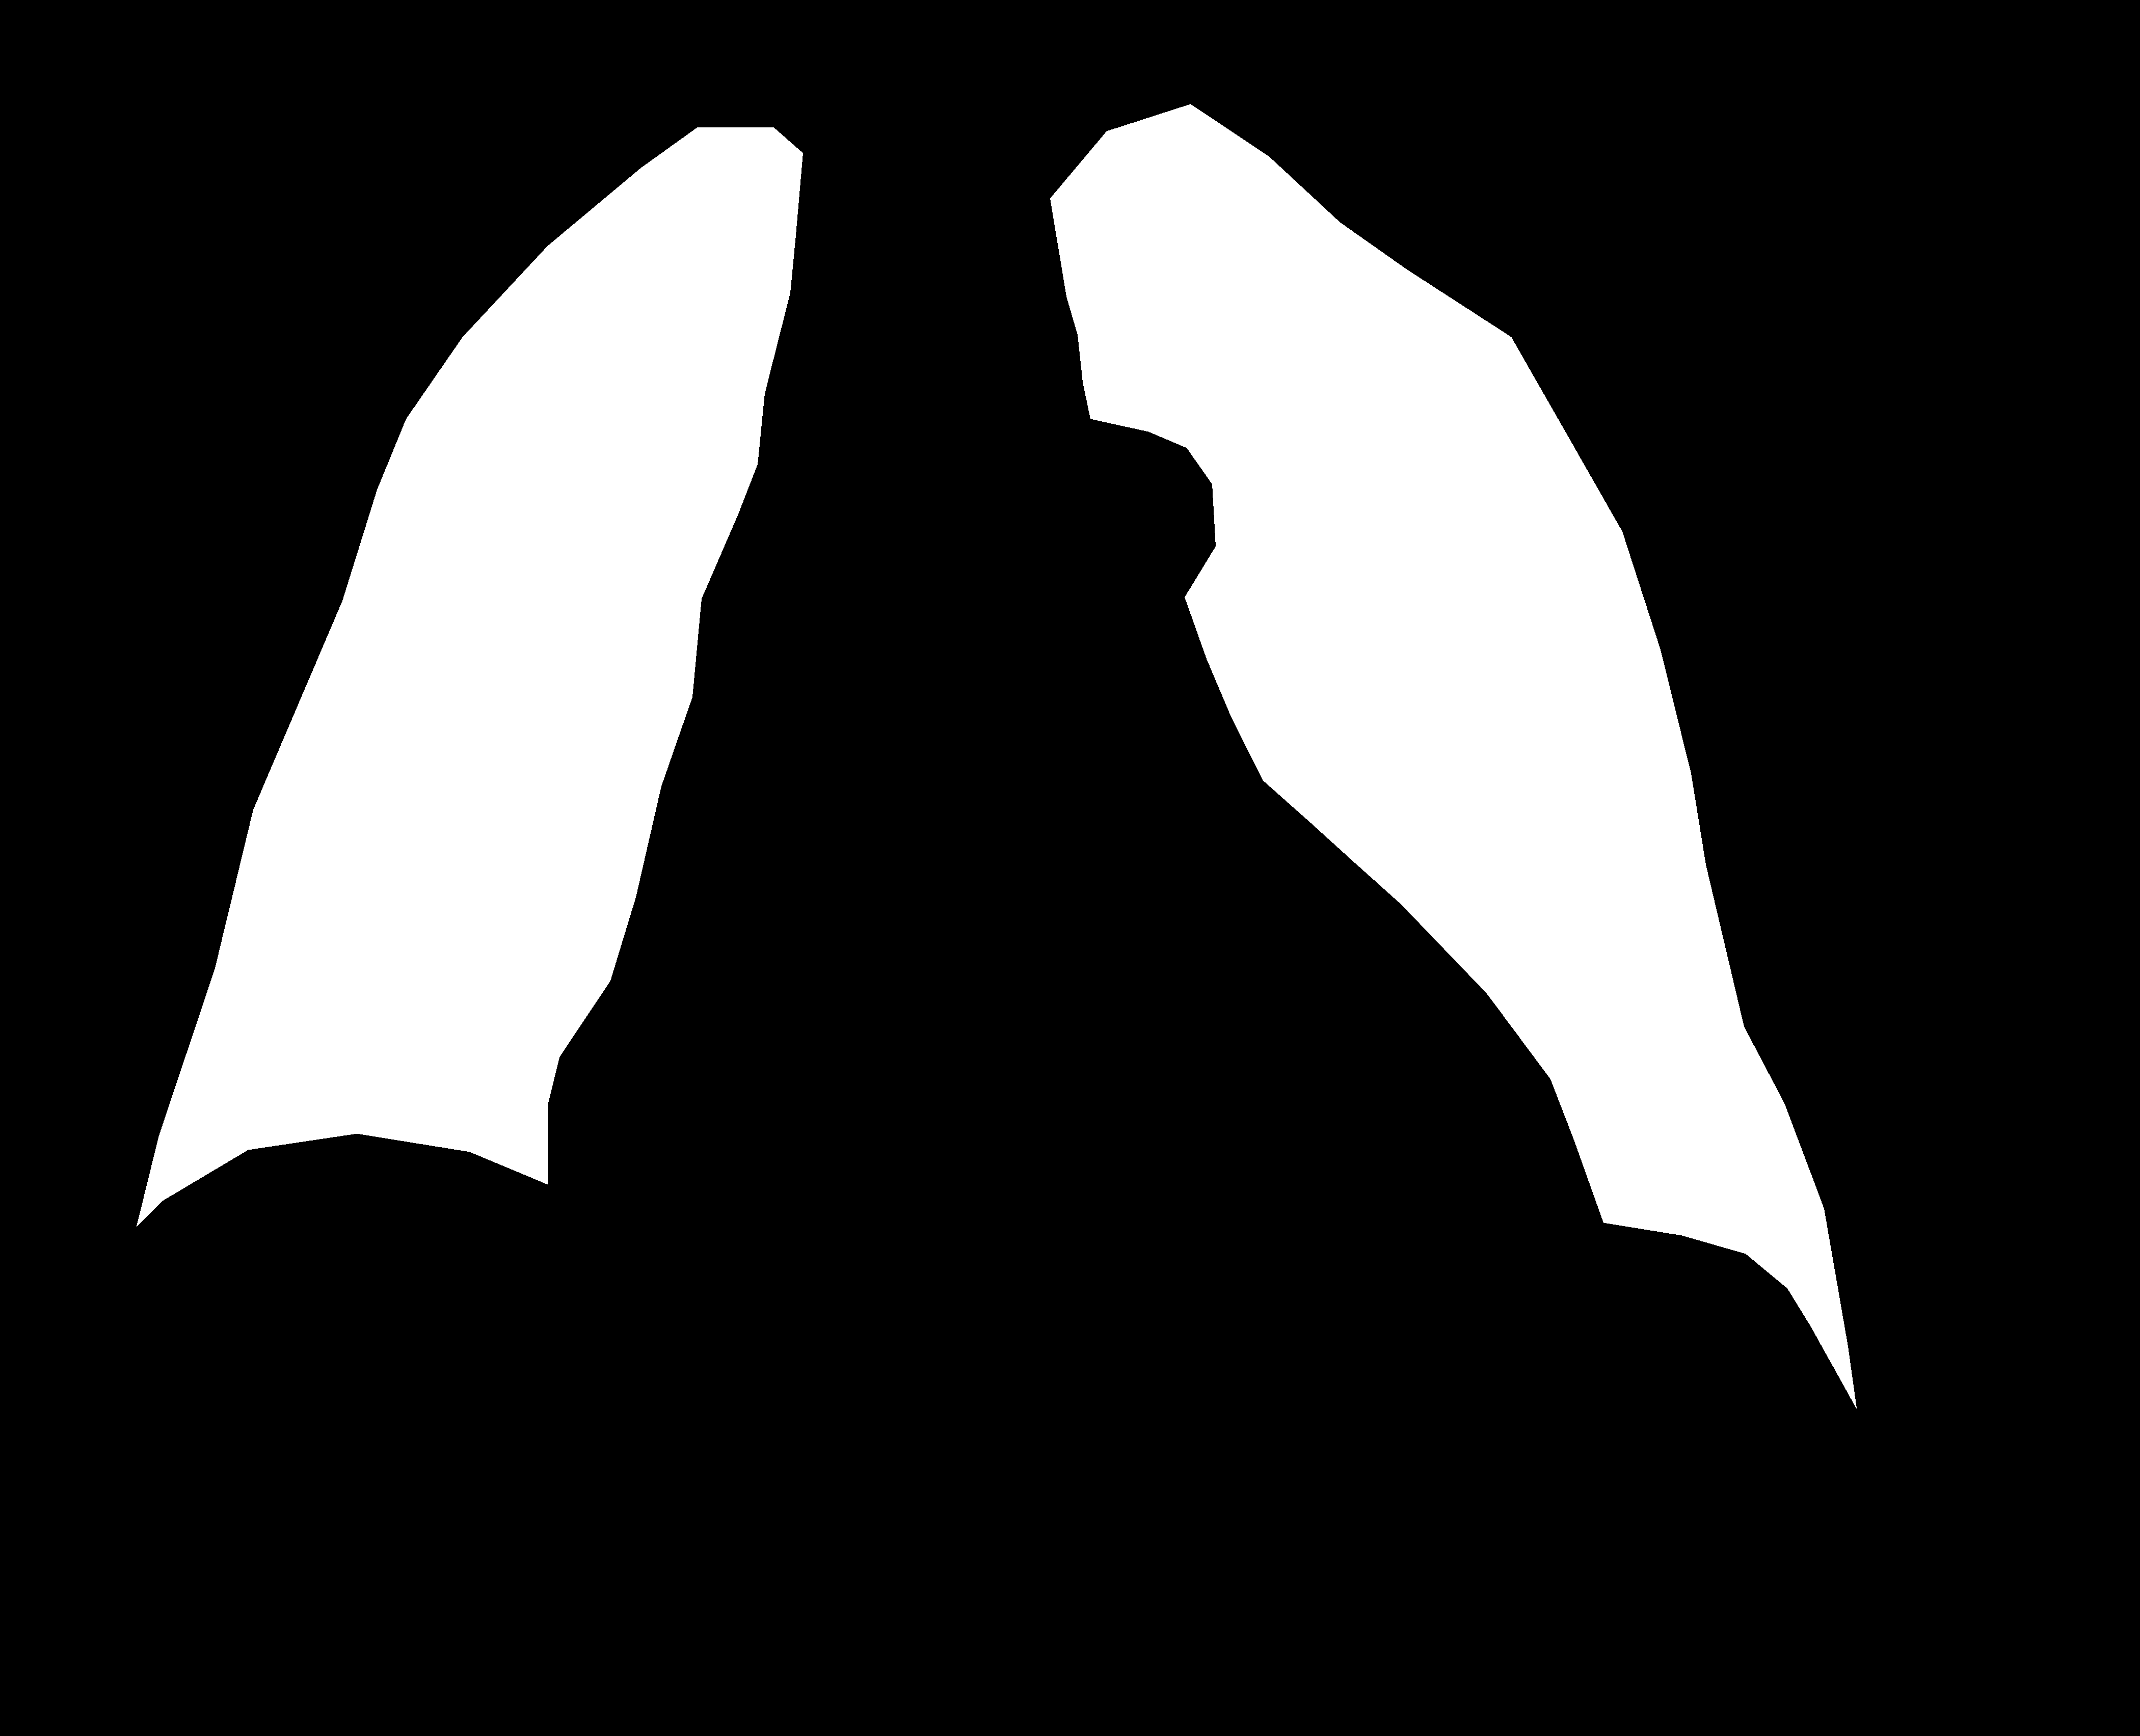heart: (539, 597, 1580, 1490)
left_lung: (136, 128, 802, 1226)
right_lung: (1051, 105, 1857, 1408)
